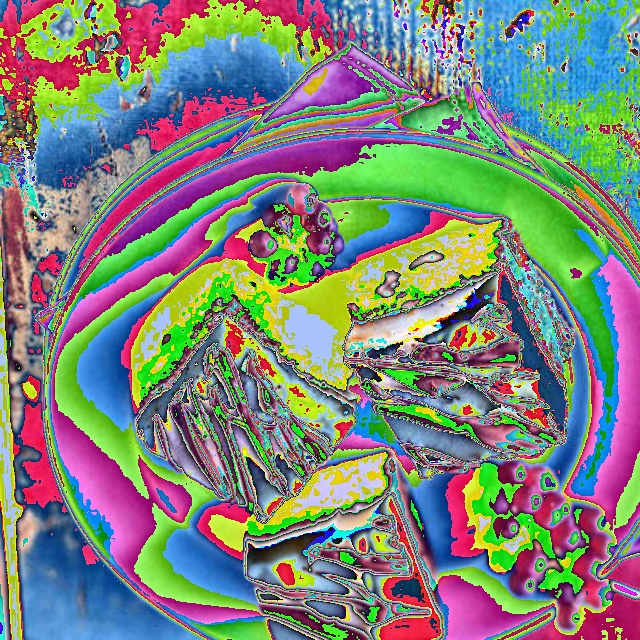background: (130, 183, 639, 639)
